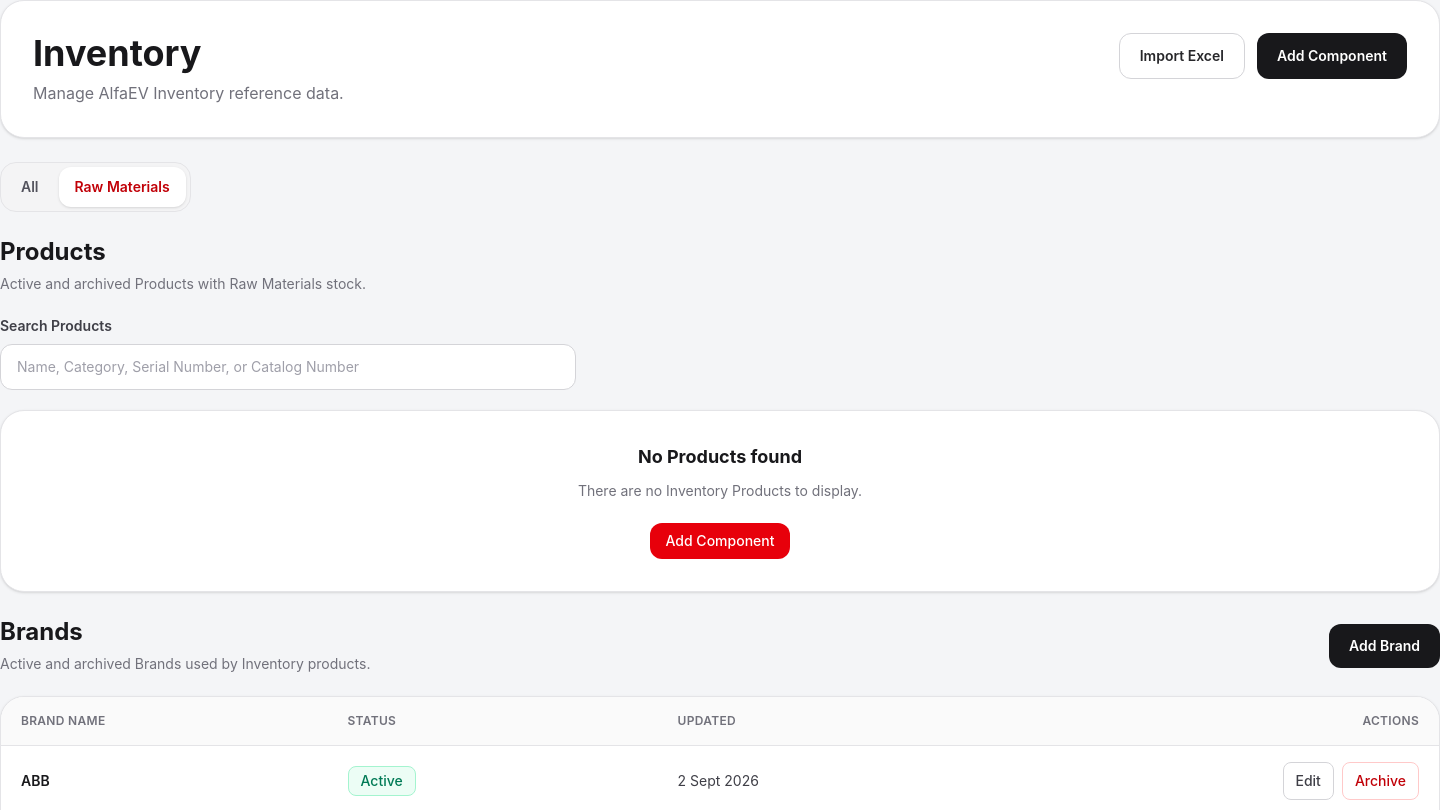
Test: InventoryPage › shows Import Excel before Add Component and opens the import dialog
The image size is (1440, 810).
What coordinates should you click on to do the following:
click the button "Import Excel"
I would click on:
 (1182, 56)
Its box is [1119, 33, 1245, 79].
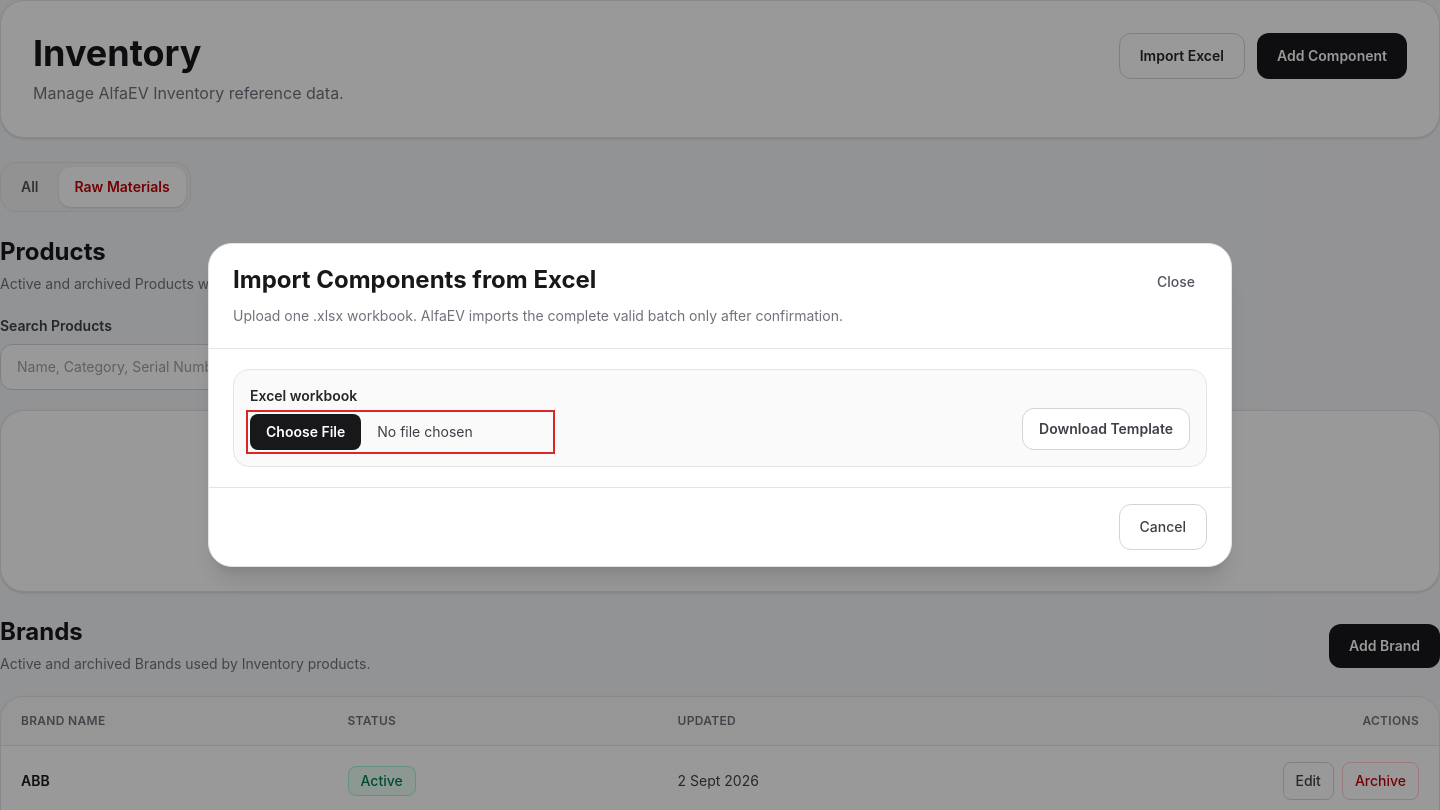
Result: the dialog "Import Components from Excel" is shown at [208, 243, 1232, 567]
